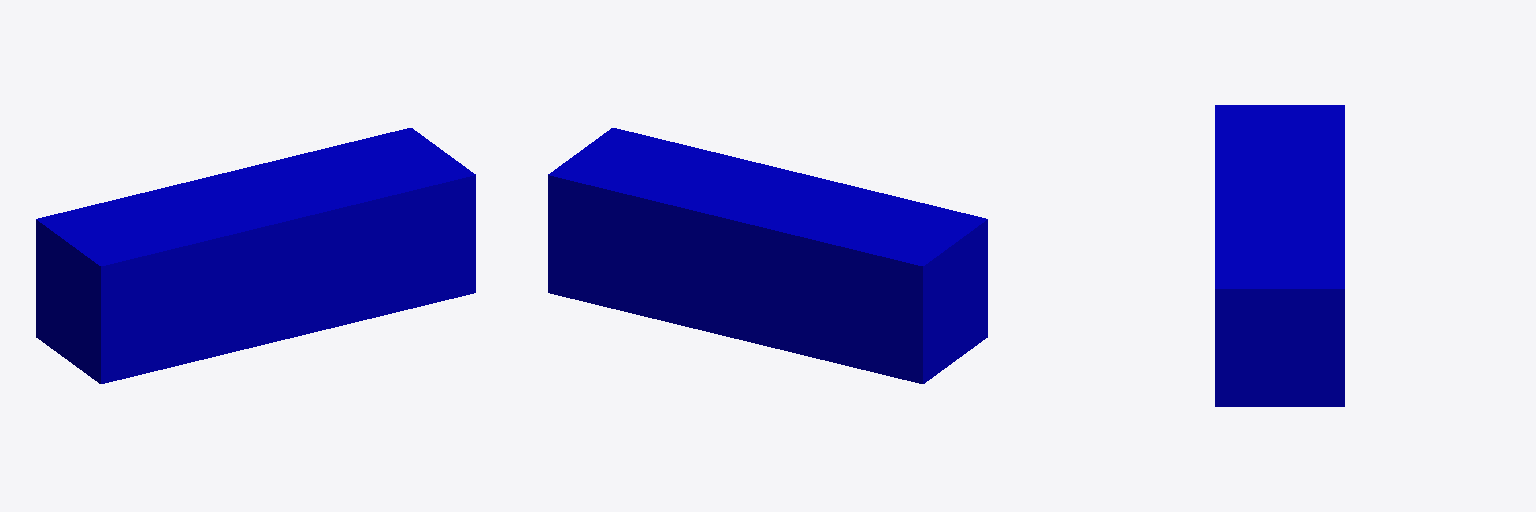
File: terrain.obj
3 views of the same model, side by side, from view 1: azimuth 30°, elevation 25°; view 2: azimuth 150°, elevation 25°; view 3: azimuth 270°, elevation 25° (orthographic).
Visible parts, largest first — view 1: Cube; view 2: Cube; view 3: Cube.
Part boxes in pixels (left/top/right/bottom): Cube: left=36, top=128, right=475, bottom=383; Cube: left=548, top=128, right=987, bottom=383; Cube: left=1215, top=105, right=1344, bottom=406.
Size of the model in its own units: 10.03 by 3.01 by 3.01.